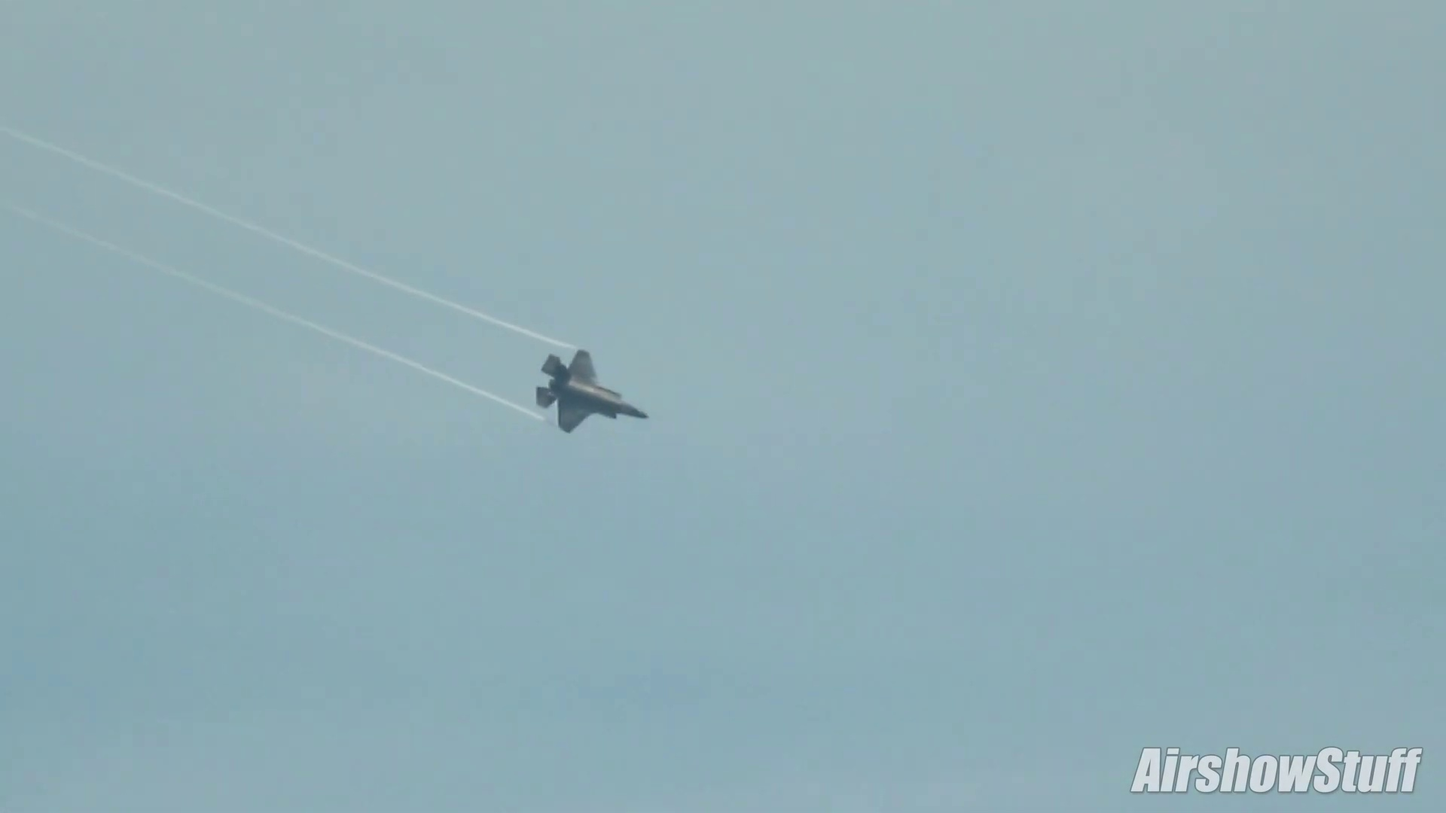F35: (533, 346, 654, 436)
